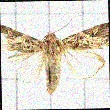Spodoptera litura: (1, 15, 109, 95)
